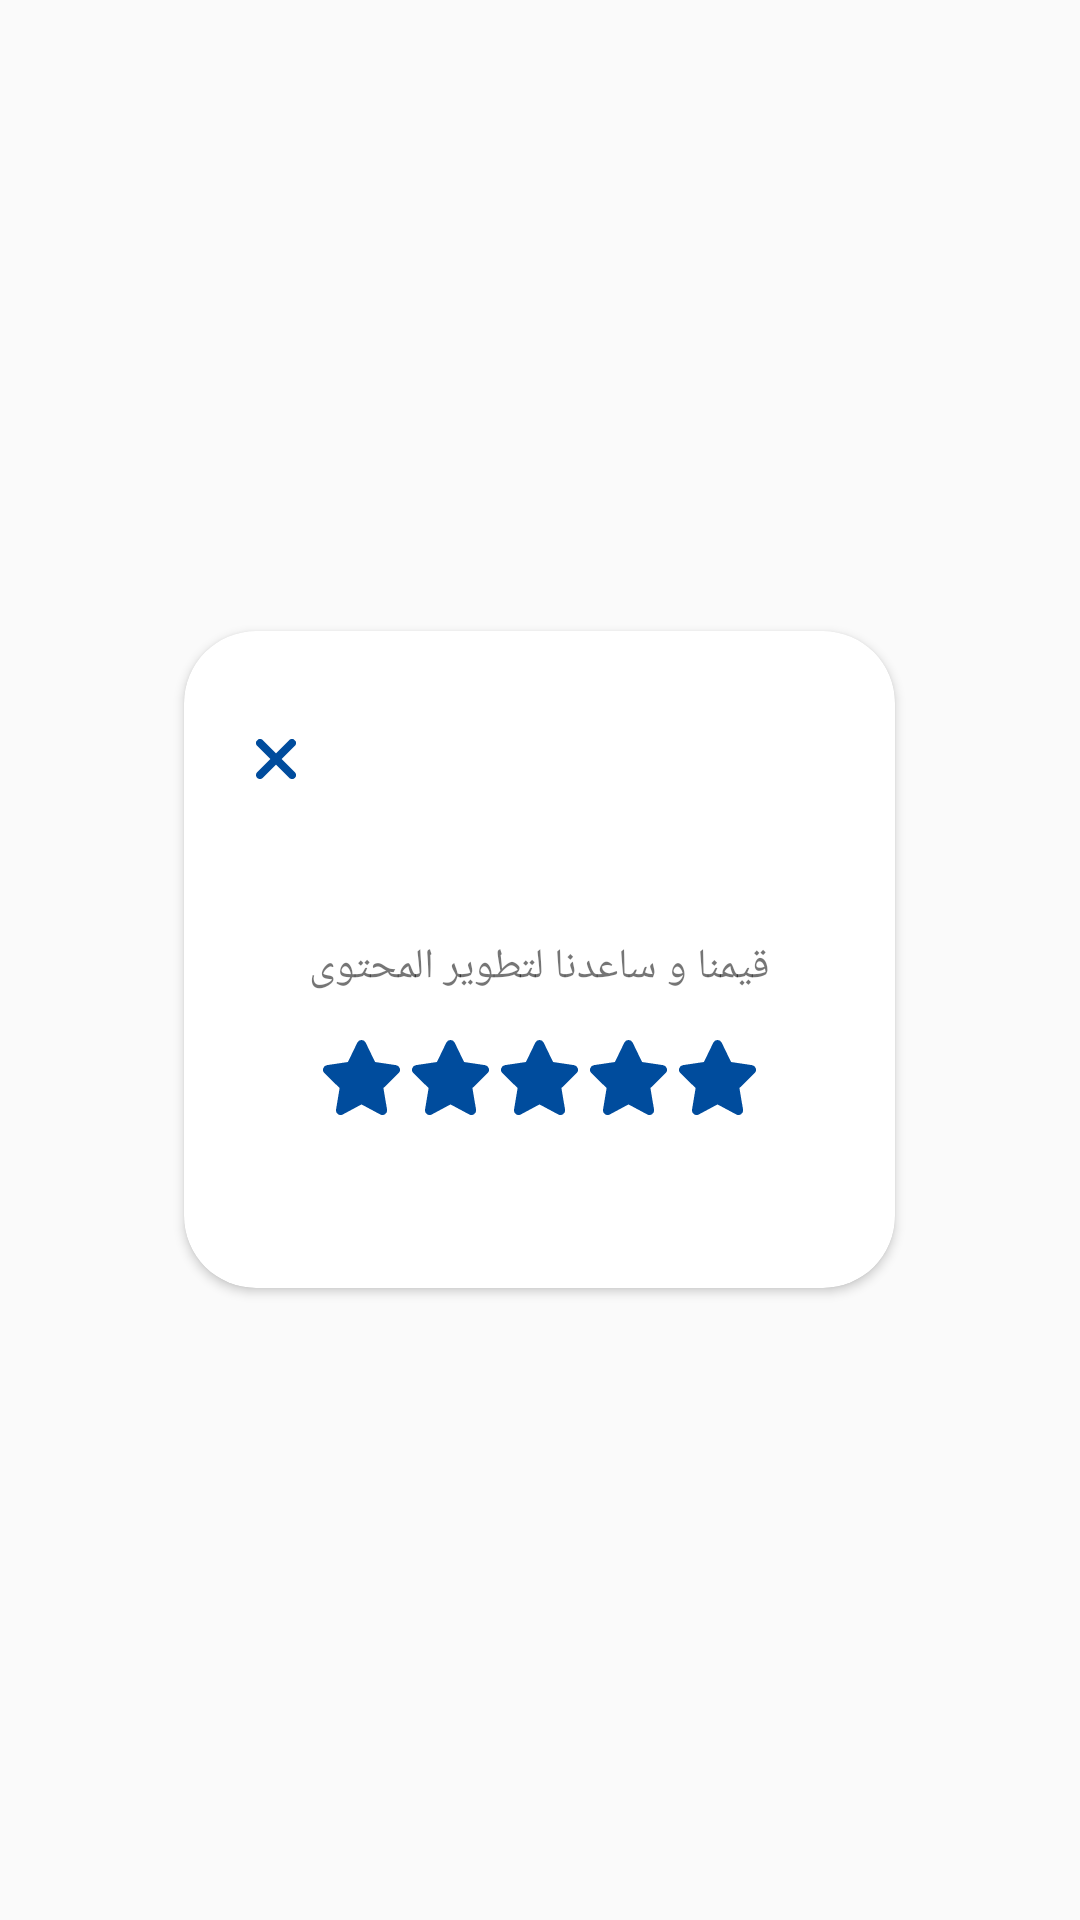

Icons on this 1080 x 1920 Android screen, each with the point to tap as (x=x, y=y):
star: (x=361, y=1077), (x=450, y=1077), (x=539, y=1077), (x=628, y=1077), (x=717, y=1077)
xmark: (x=276, y=759)
